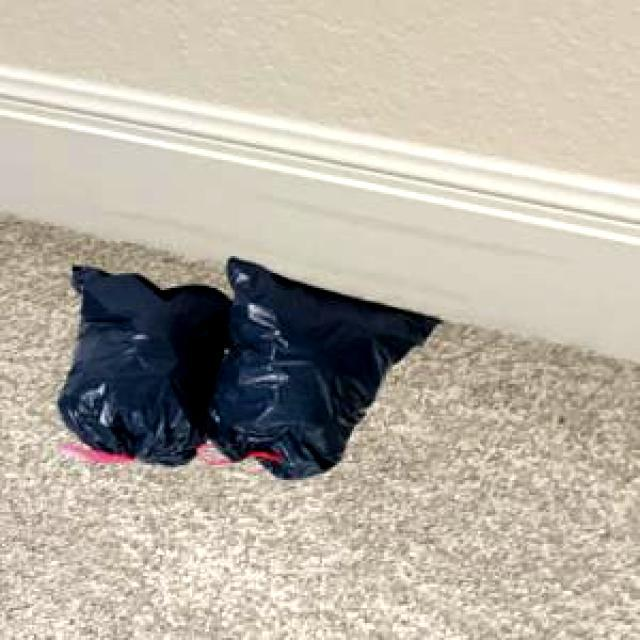Garbage_Bag: (55, 255, 438, 477)
